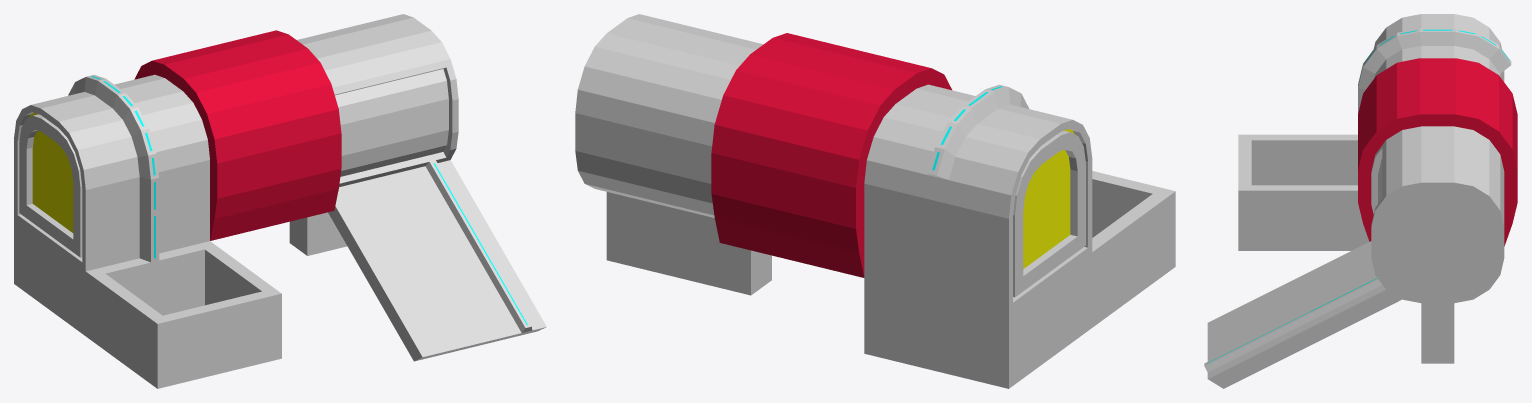
Rendered from Unboxer.fbx.
3 views of the same model, side by side, from view 1: azimuth 30°, elevation 25°; view 2: azimuth 150°, elevation 25°; view 3: azimuth 270°, elevation 25° (orthographic). The views are drawn at different scales.
Visible parts, largest first — view 1: Cube.010; view 2: Cube.010; view 3: Cube.010.
Part boxes in pixels (bbox=[...]): Cube.010: bbox=[14, 14, 546, 388]; Cube.010: bbox=[575, 14, 1175, 388]; Cube.010: bbox=[1204, 14, 1517, 388].
Size of the model in its own units: 600 by 362 by 471.
